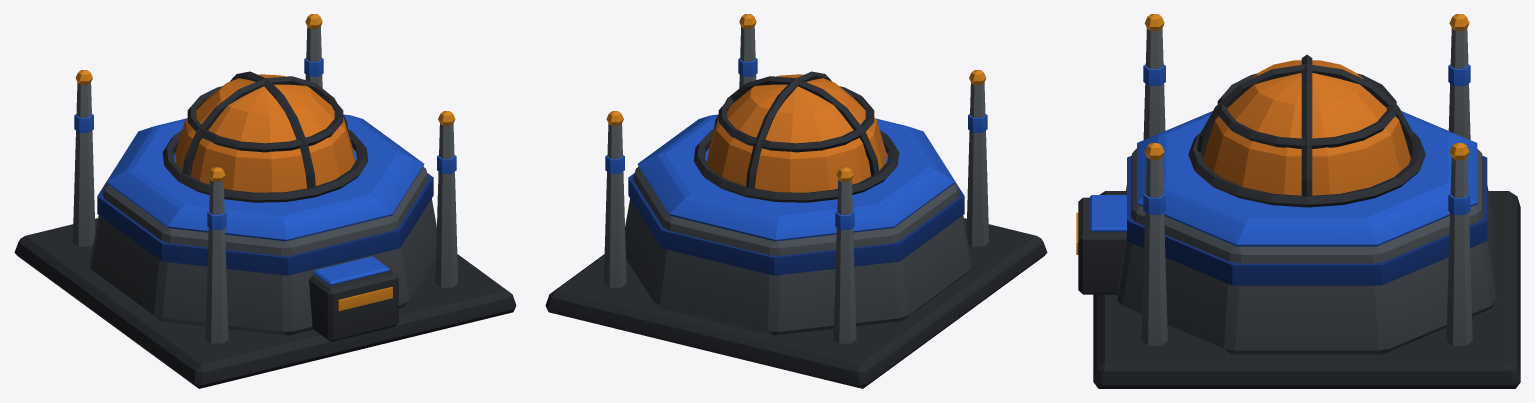
Rendered from tech-lab.glb.
3 renders of one model, left to right at view 1: azimuth 30°, elevation 25°; view 2: azimuth 150°, elevation 25°; view 3: azimuth 270°, elevation 25°, orthographic. The views are drawn at different scales.
Parts seen in each view (by area): view 1: hull; view 2: hull; view 3: hull.
Part boxes in pixels (bbox=[...]): hull: bbox=[14, 14, 516, 388]; hull: bbox=[545, 14, 1047, 388]; hull: bbox=[1076, 14, 1520, 388].
Bounding box in the file's own units: 1.91 × 1.16 × 1.98.
